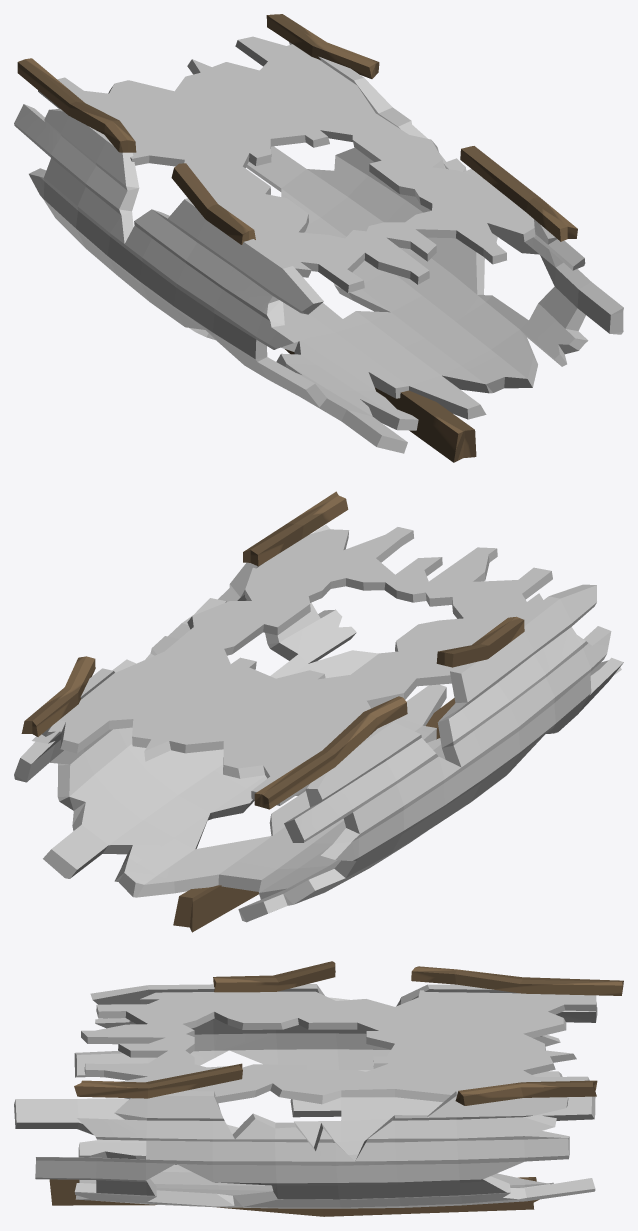
File: SM_Prop_Wreck_Small_Middle_01.fbx
The picture shows the model from 3 angles, top to bottom: view 1: azimuth 30°, elevation 25°; view 2: azimuth 150°, elevation 25°; view 3: azimuth 270°, elevation 25°; orthographic projection. The views are drawn at different scales.
Parts seen in each view (by area): view 1: SM_Prop_Wreck_Small_Middle_01; view 2: SM_Prop_Wreck_Small_Middle_01; view 3: SM_Prop_Wreck_Small_Middle_01.
Boxes of the visible parts, x1=… form: SM_Prop_Wreck_Small_Middle_01: x1=14, y1=14, x2=623, y2=462; SM_Prop_Wreck_Small_Middle_01: x1=14, y1=491, x2=623, y2=932; SM_Prop_Wreck_Small_Middle_01: x1=14, y1=961, x2=623, y2=1216.
Bounding box in the file's own units: 860 × 558 × 1578.
